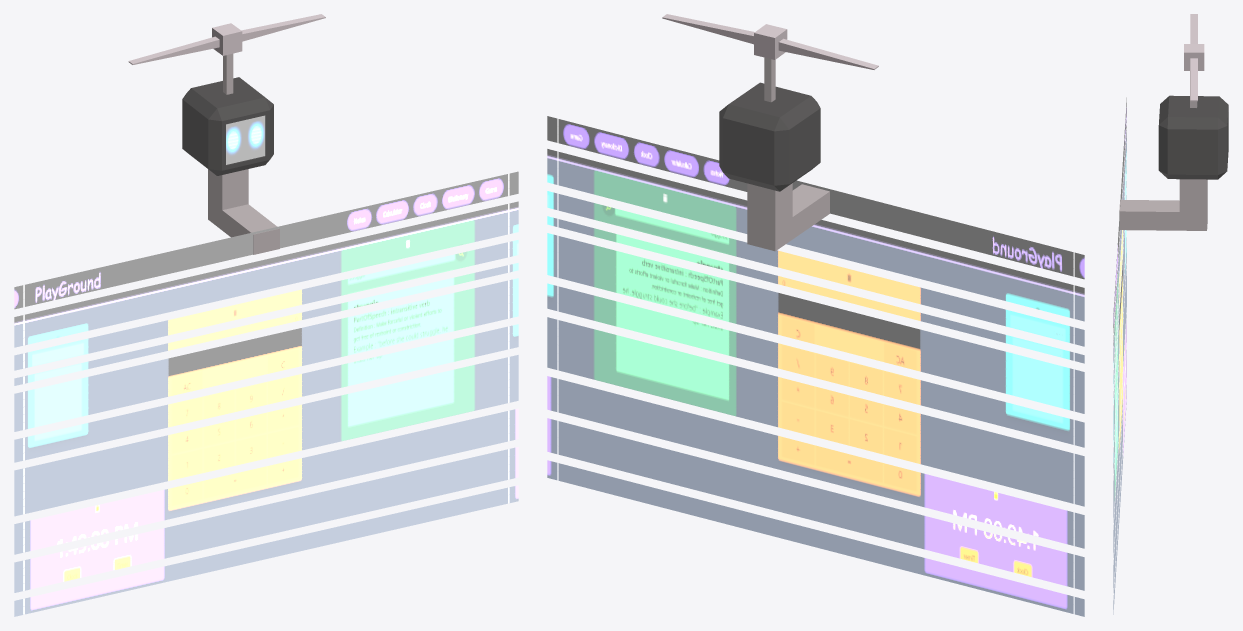
File: PlayGround.glb
3 views of the same model, side by side, from view 1: azimuth 30°, elevation 25°; view 2: azimuth 150°, elevation 25°; view 3: azimuth 270°, elevation 25° (orthographic). The views are drawn at different scales.
Visible parts, largest first — view 1: Board, Fan; view 2: Board, Fan; view 3: Board, Fan.
Part boxes in pixels (x1,y1,x2,y2): Board: (14, 53, 518, 616); Fan: (128, 14, 325, 64); Board: (547, 57, 1084, 616); Fan: (662, 14, 878, 69); Board: (1113, 71, 1228, 614); Fan: (1184, 14, 1204, 101).
Bounding box in the file's own units: 8 × 7.68 × 1.75.
